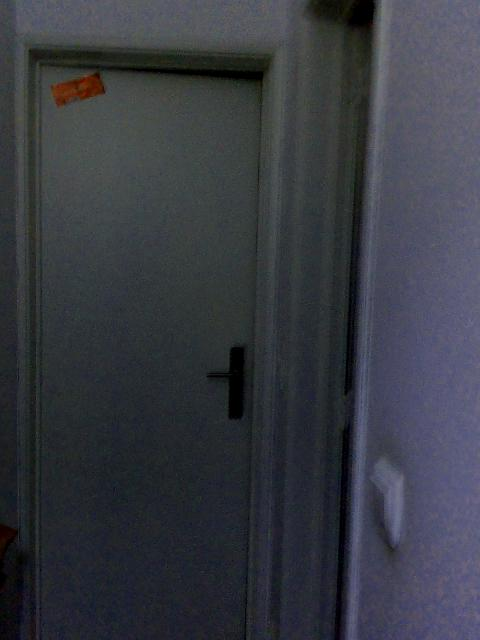closed_door: (23, 45, 268, 638)
